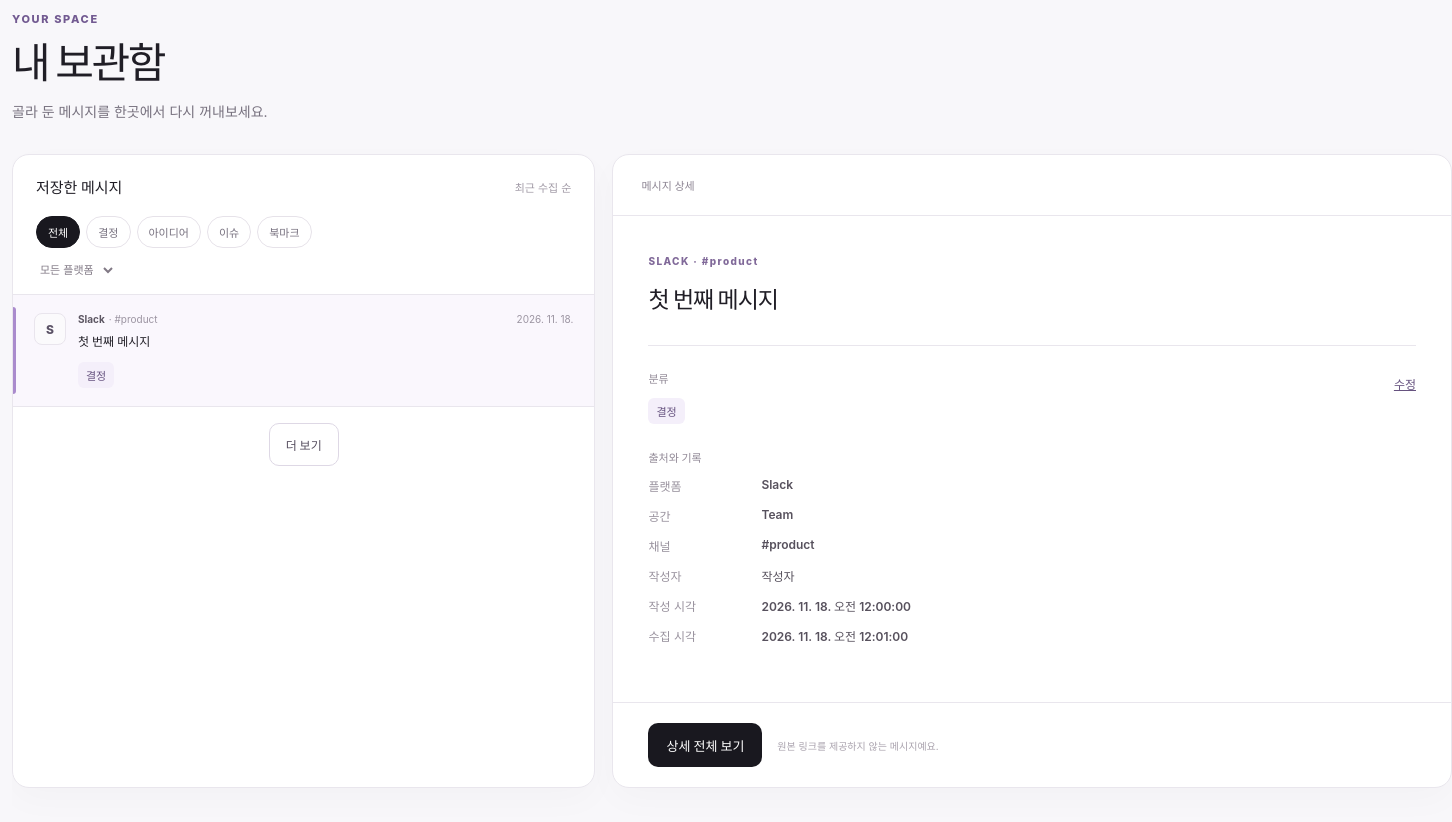
loads more messages and sends category filters with the access token
Later steps or results of the test are not shown.
Expected: the button with aria-label "Slack, 첫 번째 메시지" is shown, [13,295,594,406]
Click the button "더 보기". click: (304,444)
box: [269,422,339,466]
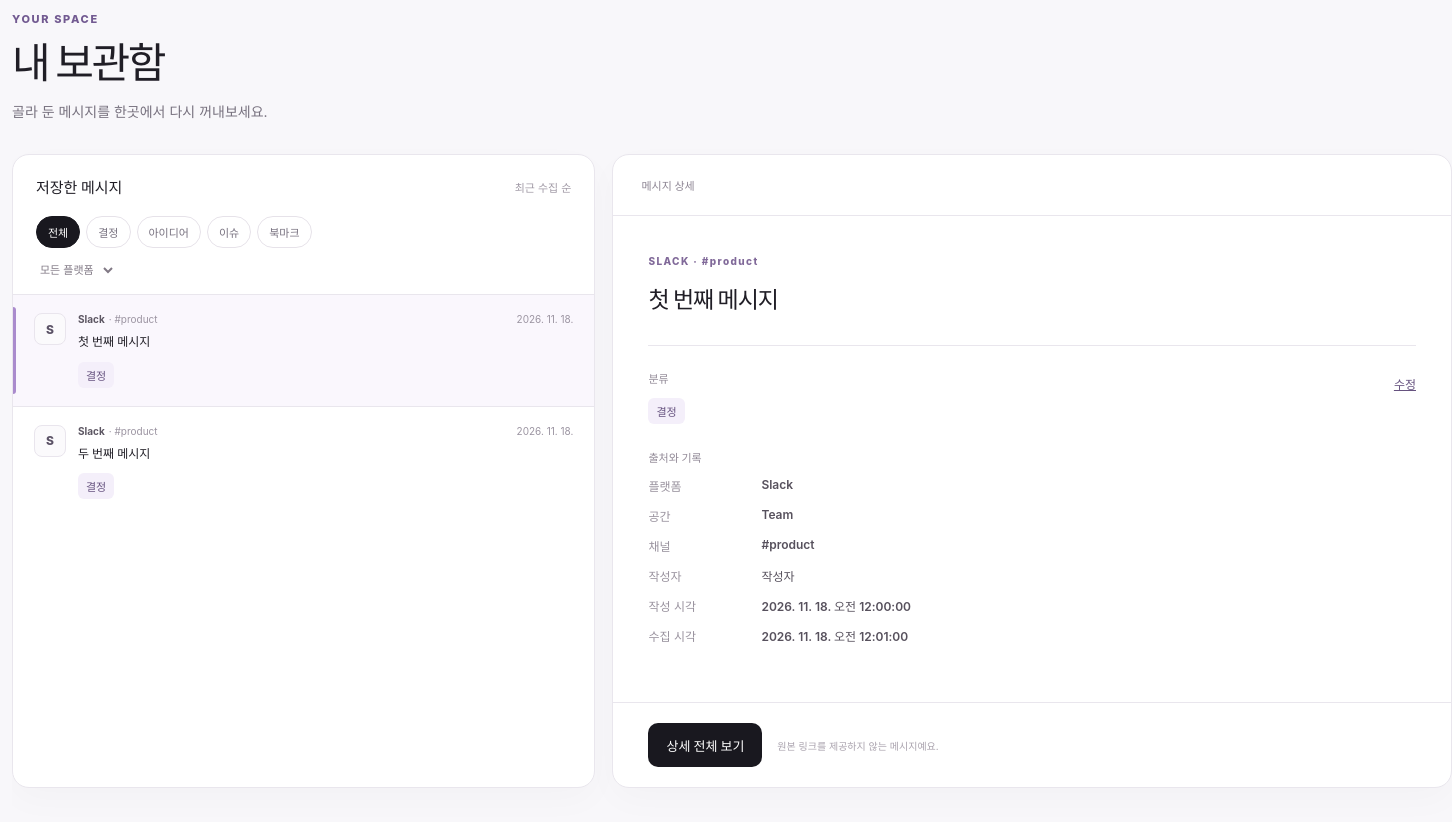
Now the button with aria-label "Slack, 두 번째 메시지" is shown, box [13,406,594,517]
